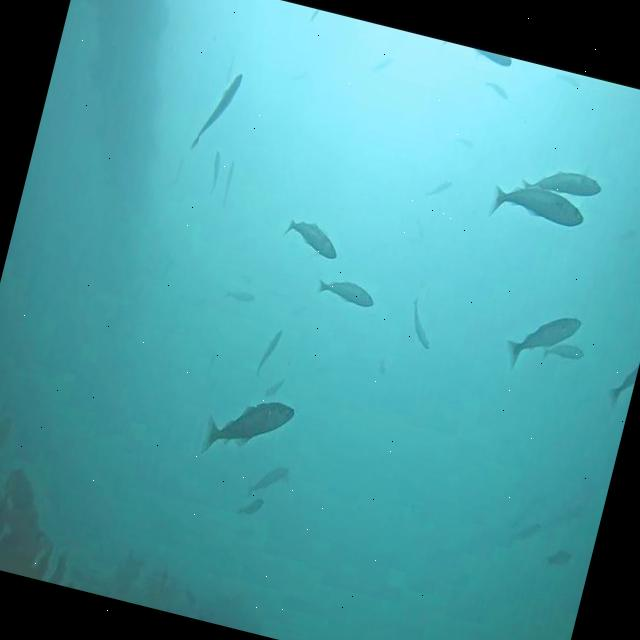fish: (200, 385, 298, 474), (483, 175, 588, 241), (500, 302, 582, 384), (189, 67, 245, 162), (516, 158, 604, 210), (279, 214, 343, 262), (310, 272, 382, 312), (402, 298, 439, 352), (247, 458, 290, 501), (606, 361, 638, 412), (538, 337, 586, 367), (256, 327, 282, 378), (512, 516, 544, 548), (472, 49, 513, 69), (219, 160, 237, 204), (206, 153, 223, 195), (481, 80, 511, 102), (238, 494, 264, 518), (263, 374, 285, 400), (225, 286, 258, 303), (428, 178, 452, 200), (554, 72, 582, 90), (546, 548, 570, 568), (454, 136, 476, 150)
